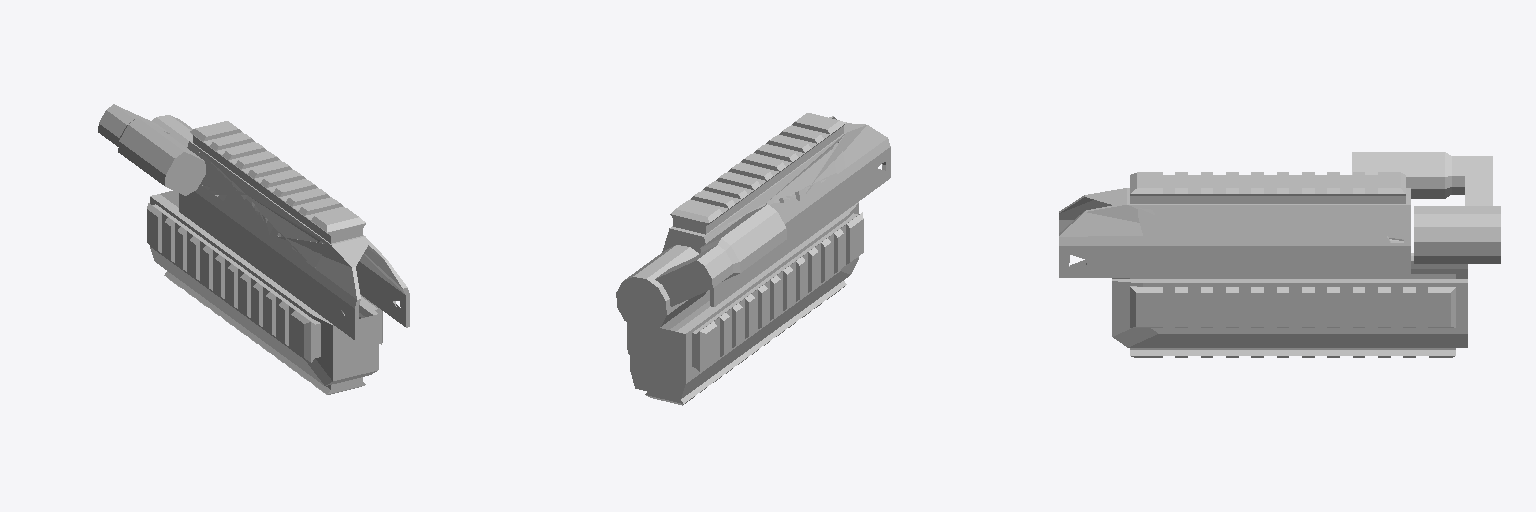
File: Grip3.obj
3 renders of one model, left to right at view 1: azimuth 30°, elevation 25°; view 2: azimuth 150°, elevation 25°; view 3: azimuth 270°, elevation 25°, orthographic.
Visible parts, largest first — view 1: Cube.032; view 2: Cube.032; view 3: Cube.032.
Part boxes in pixels (bbox=[...]): Cube.032: bbox=[98, 104, 409, 394]; Cube.032: bbox=[616, 113, 890, 405]; Cube.032: bbox=[1059, 152, 1500, 357].
Bounding box in the file's own units: 0.236 × 0.3545 × 0.8191.